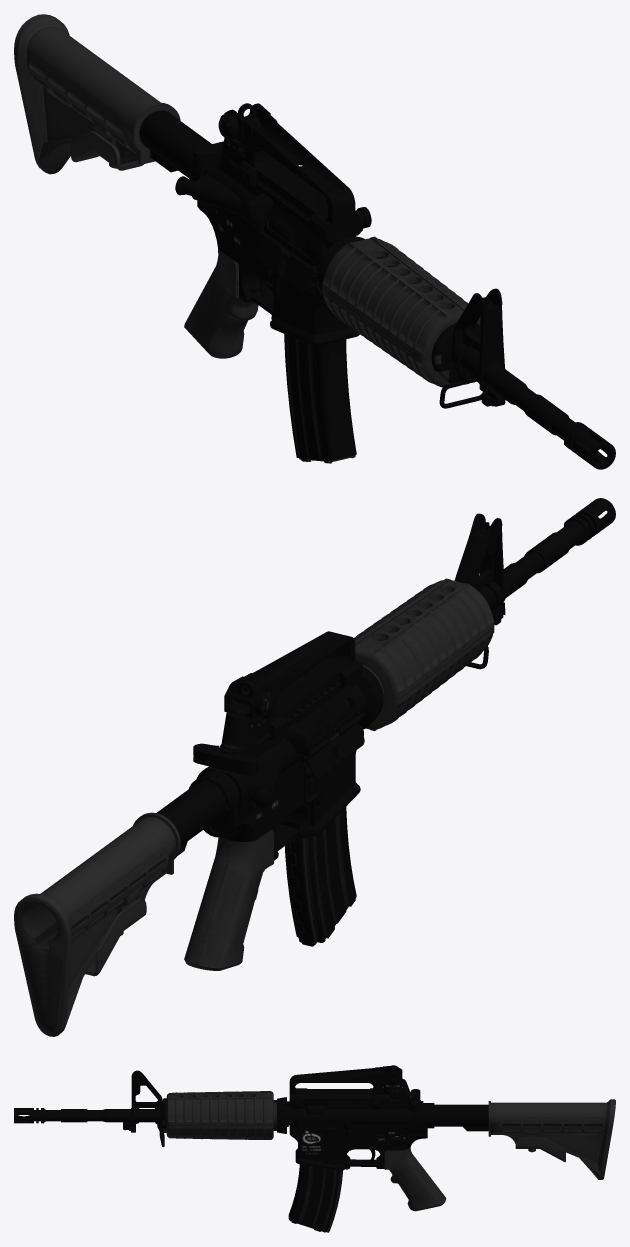
3 views of the same model, one above another, from view 1: azimuth 30°, elevation 25°; view 2: azimuth 150°, elevation 25°; view 3: azimuth 270°, elevation 25° (orthographic). The views are drawn at different scales.
Parts seen in each view (by area): view 1: mesh0_M4_0 (×5), mesh0_Stock_0 (×2), mesh0_MAG_0; view 2: mesh0_M4_0 (×5), mesh0_Stock_0 (×2), mesh0_MAG_0; view 3: mesh0_M4_0 (×3), mesh0_Stock_0 (×2), mesh0_MAG_0.
Part boxes in pixels (x1=…): mesh0_M4_0 (×5): x1=175, y1=103, x2=615, y2=469; mesh0_Stock_0 (×2): x1=14, y1=14, x2=211, y2=181; mesh0_MAG_0: x1=284, y1=334, x2=356, y2=463; mesh0_M4_0 (×5): x1=184, y1=498, x2=615, y2=970; mesh0_Stock_0 (×2): x1=14, y1=772, x2=236, y2=1036; mesh0_MAG_0: x1=285, y1=807, x2=356, y2=946; mesh0_M4_0 (×3): x1=14, y1=1065, x2=446, y2=1211; mesh0_Stock_0 (×2): x1=425, y1=1099, x2=615, y2=1179; mesh0_MAG_0: x1=288, y1=1164, x2=342, y2=1232.
Bounding box in the file's own units: 1.65 × 5.52 × 18.37.
4 materials, 4 textured.
